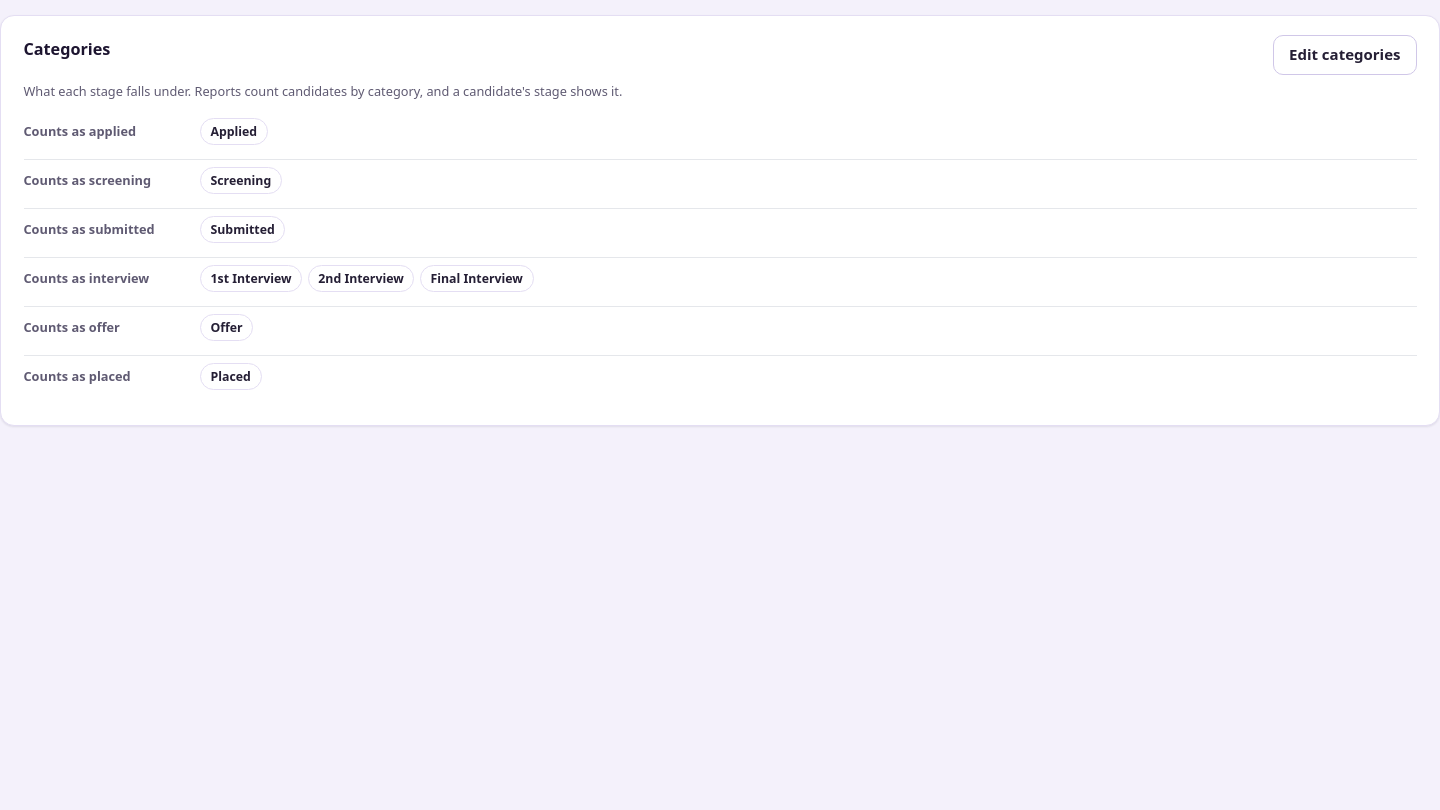
Test: renames, adds and orders categories within their kind, and saves them with the version shown
This screenshot has width=1440, height=810.
Later steps or results of the test are not shown.
Click the button "Edit categories".
click(1345, 55)  # box x1=1273 y1=35 x2=1416 y2=75
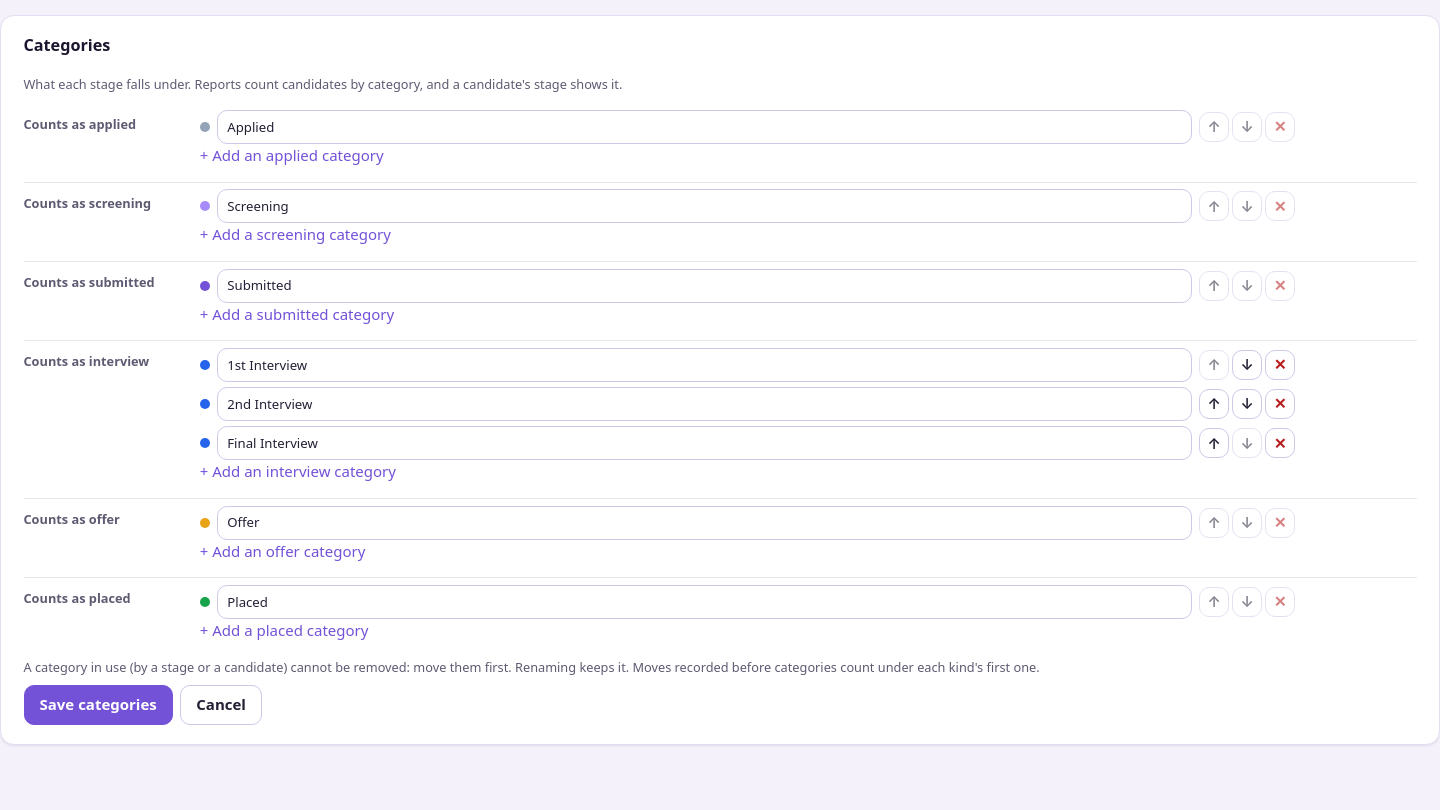
Replace the text in the field named "Interview category 1 name" with "First round" at (704, 365), box x1=217 y1=348 x2=1192 y2=382
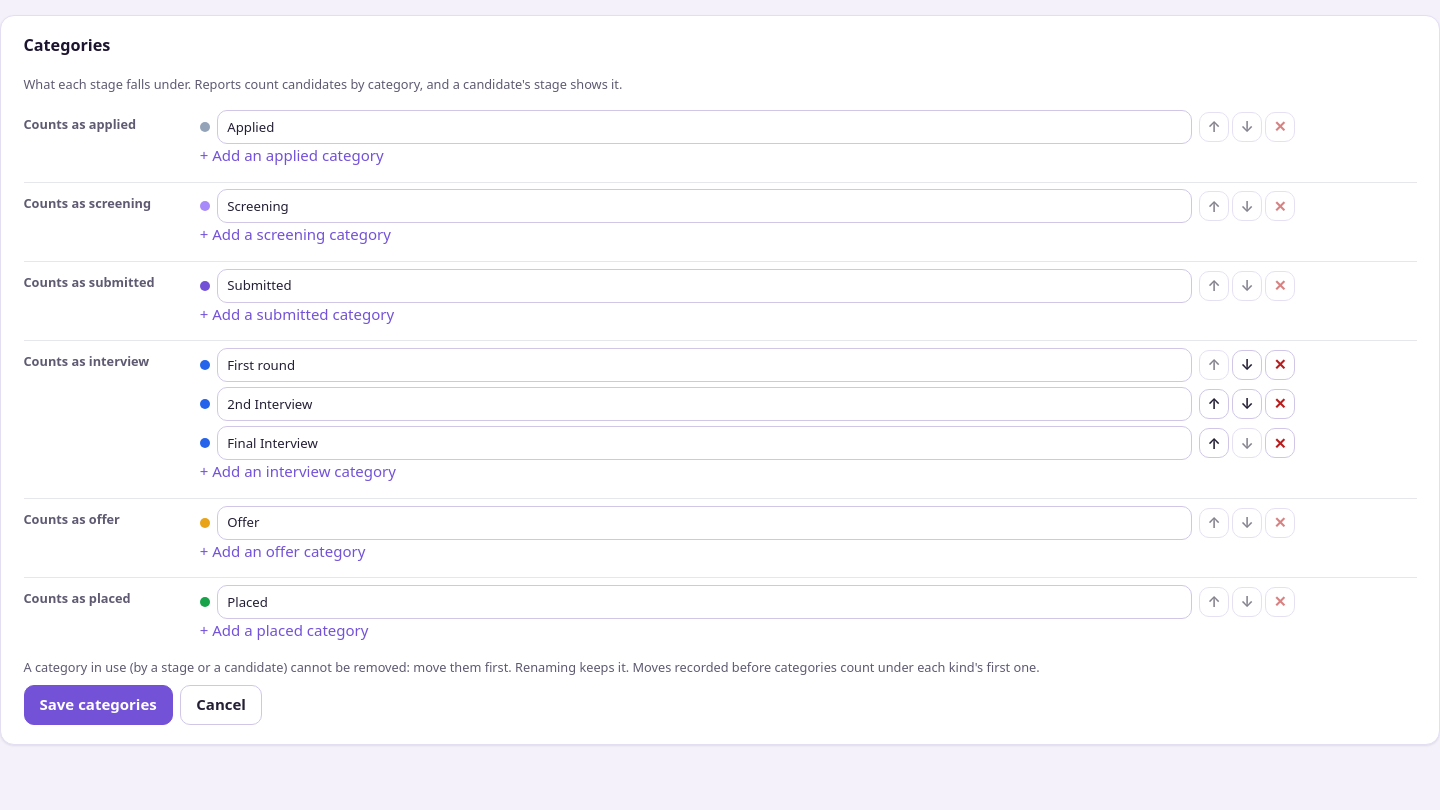
Click the button "+ Add an interview category".
click(298, 472)  # box x1=200 y1=460 x2=396 y2=484
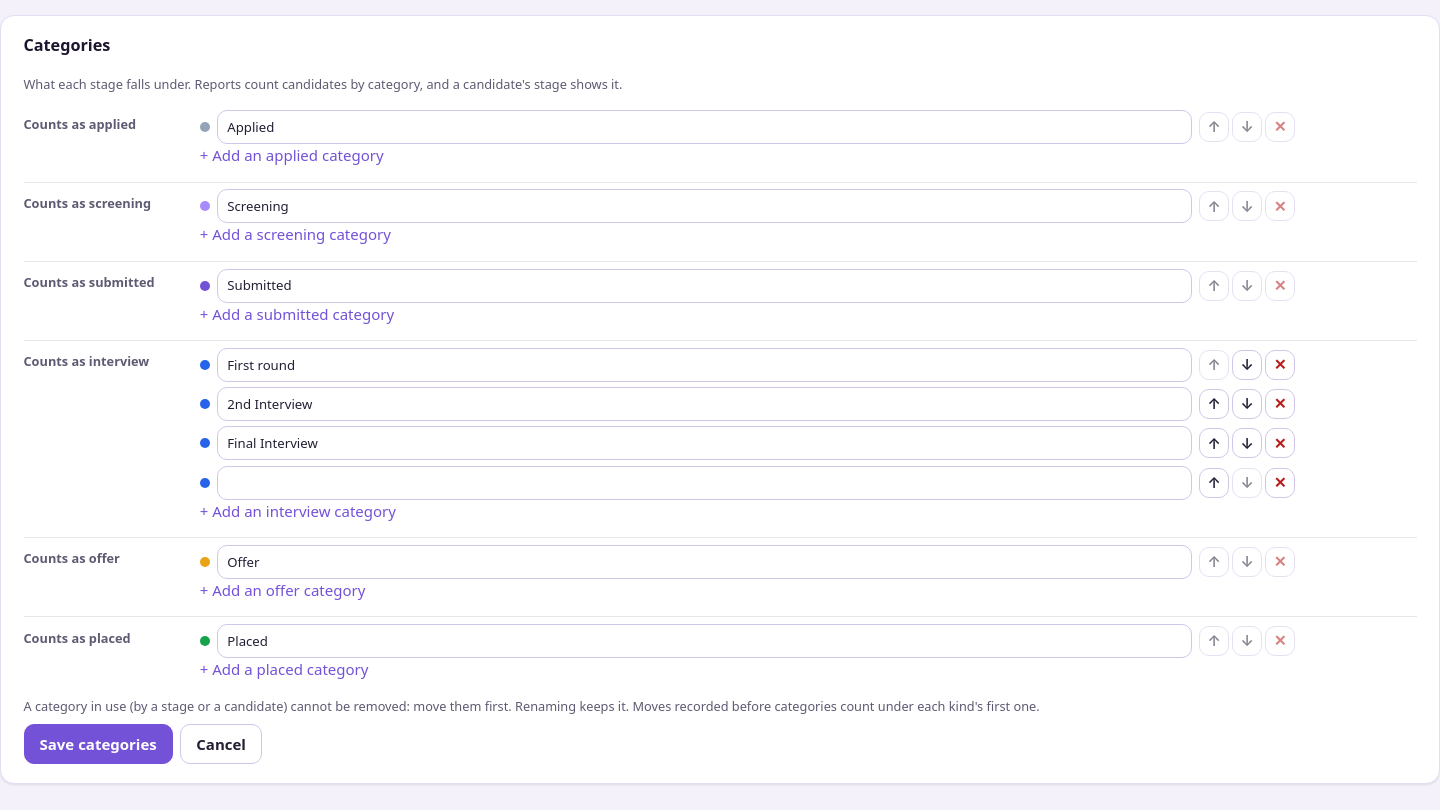
Type "Technical Test" into the field named "Interview category 4 name".
click(704, 483); type("Technical Test")  # box x1=217 y1=466 x2=1192 y2=500
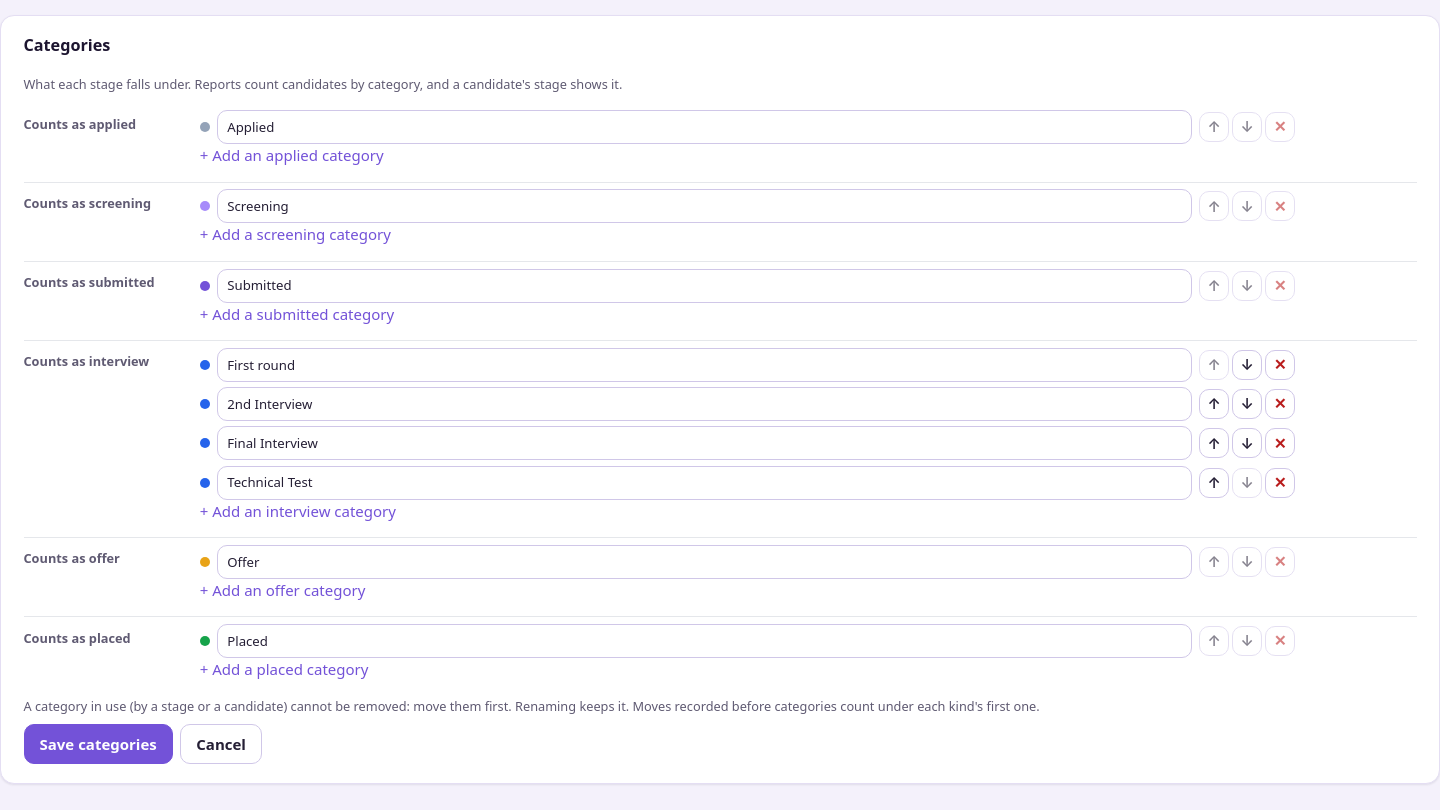
Click the button named "Move Technical Test up".
click(1214, 483)  # box x1=1199 y1=468 x2=1229 y2=498
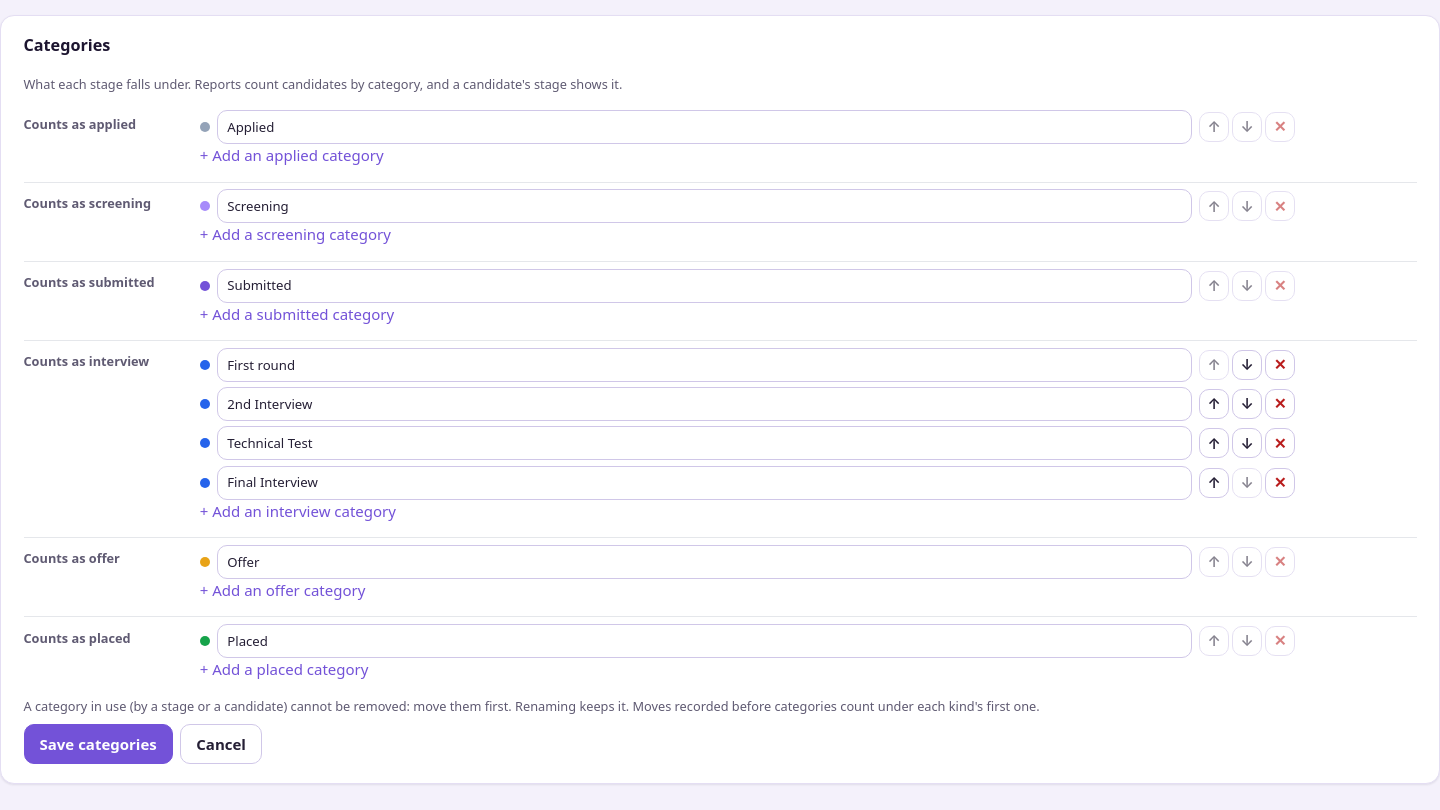
Expected: the button named "Remove Applied" is disabled, x1=1265 y1=112 x2=1295 y2=142
